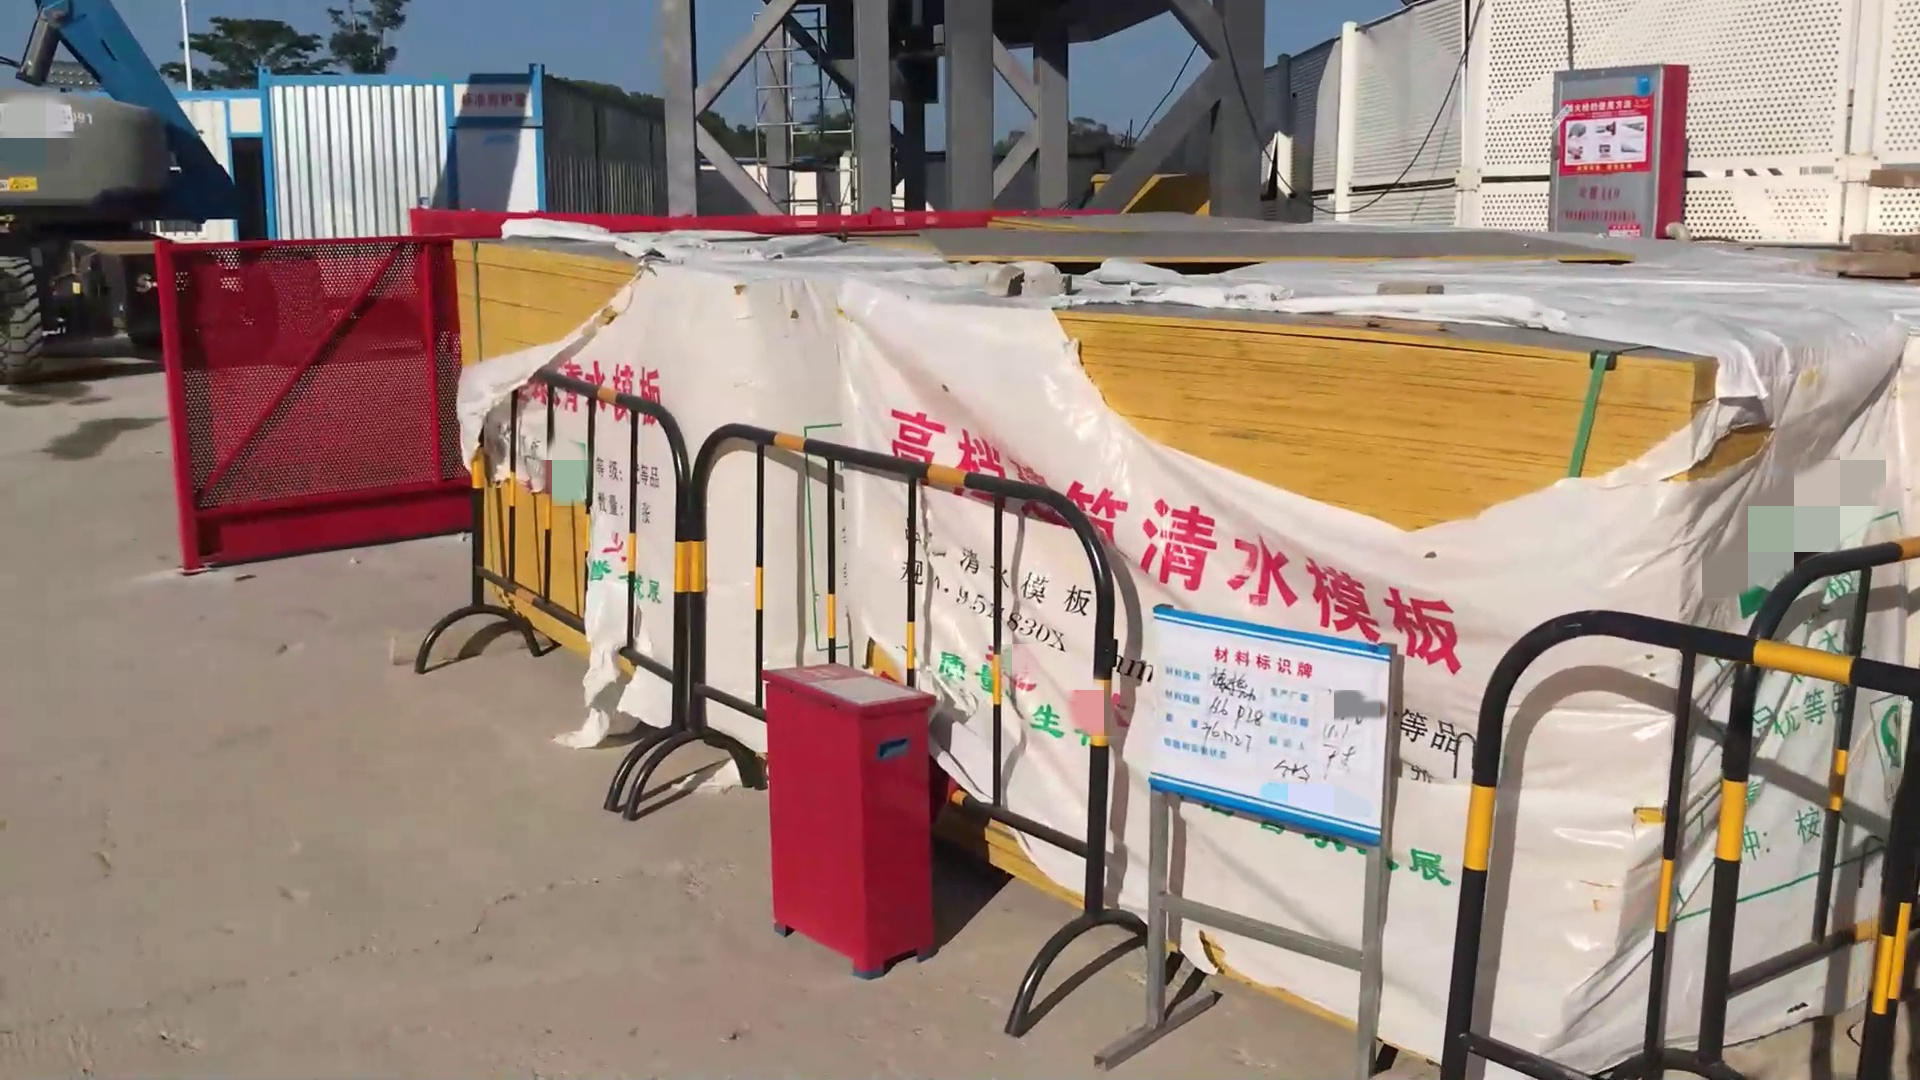fence: (462, 384, 1163, 947), (1466, 546, 1913, 1080), (162, 237, 454, 556)
